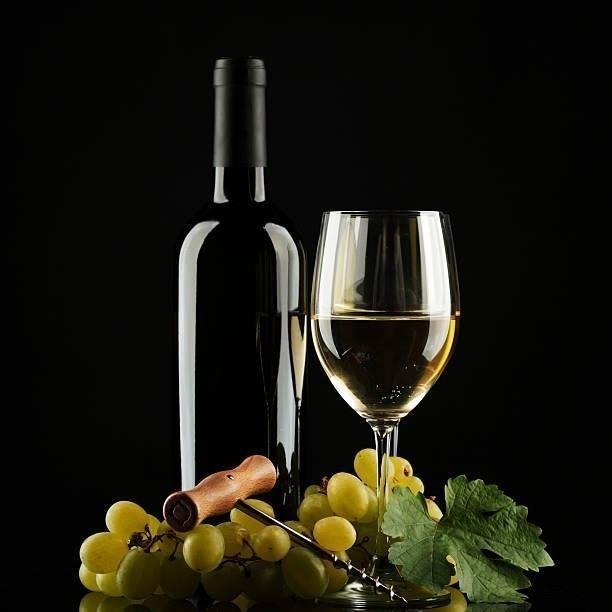bottle-glass: (169, 49, 313, 531)
glass-wine: (308, 206, 462, 609)
